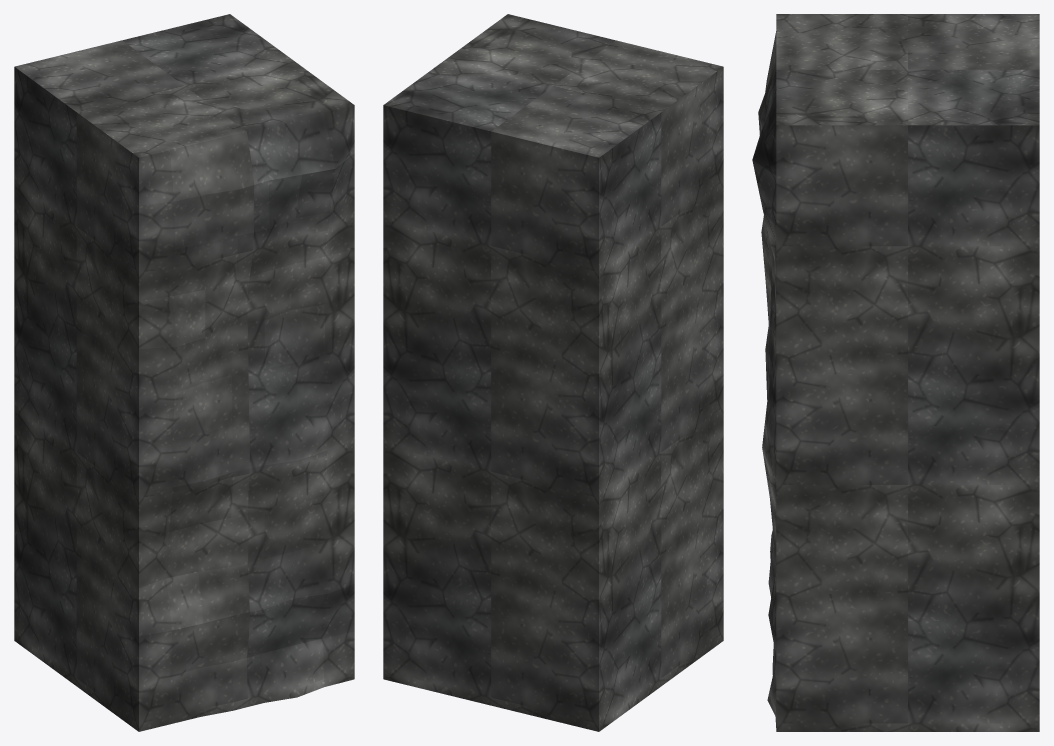
File: kit_wall_cave_face.glb
The picture shows the model from 3 angles, left to right: view 1: azimuth 30°, elevation 25°; view 2: azimuth 150°, elevation 25°; view 3: azimuth 270°, elevation 25°; orthographic projection. The views are drawn at different scales.
Parts seen in each view (by area): view 1: kit_wall_cave_face; view 2: kit_wall_cave_face; view 3: kit_wall_cave_face.
Boxes of the visible parts, x1,y1,x2,y2 form: kit_wall_cave_face: (14,14,354,731); kit_wall_cave_face: (383,14,723,731); kit_wall_cave_face: (752,14,1039,731).
Size of the model in its own units: 2.8 by 7.12 by 3.06.
1 material, 1 textured.
